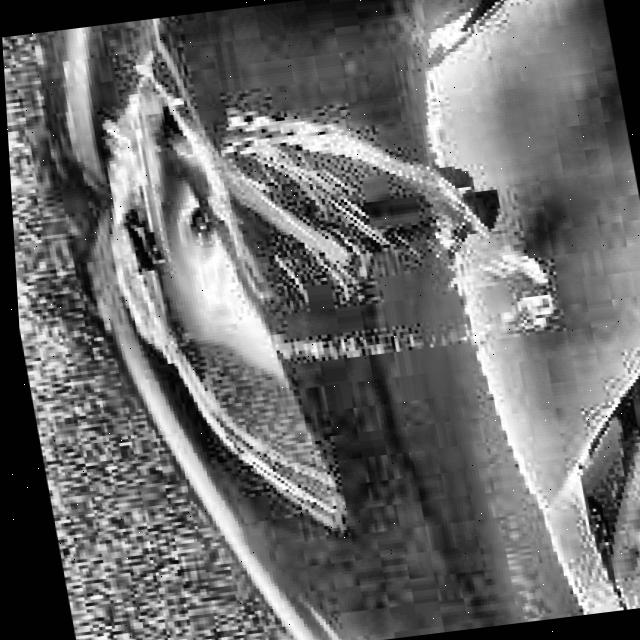tail_lamp: (98, 120, 305, 444)
